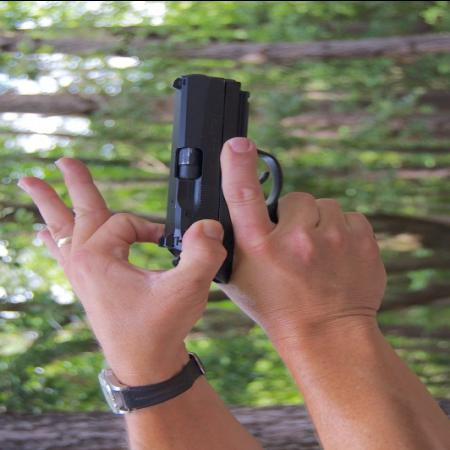Pistol: (156, 70, 286, 298)
